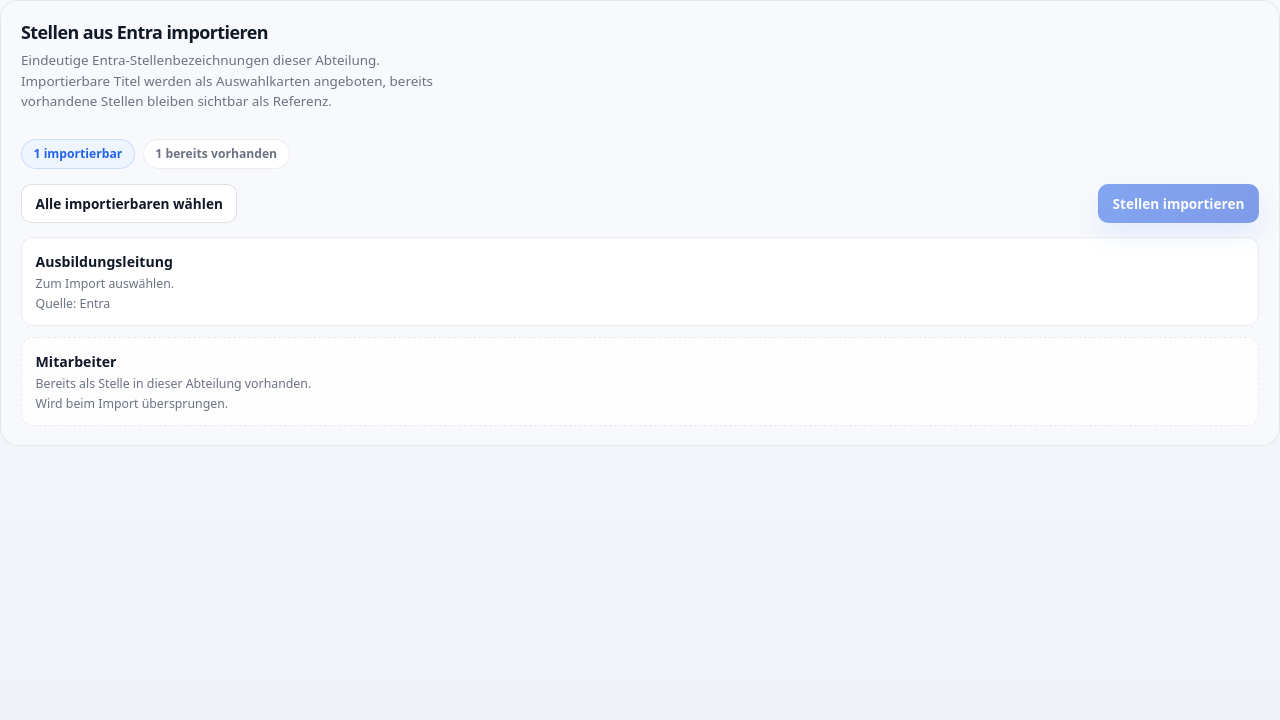
Test: AdminDepartmentEntraImportSection › refreshes organization data after a successful Entra position import
Click the button "Ausbildungsleitung Zum Import auswählen. Quelle: Entra".
click(104, 261)  # box [21, 237, 1259, 326]
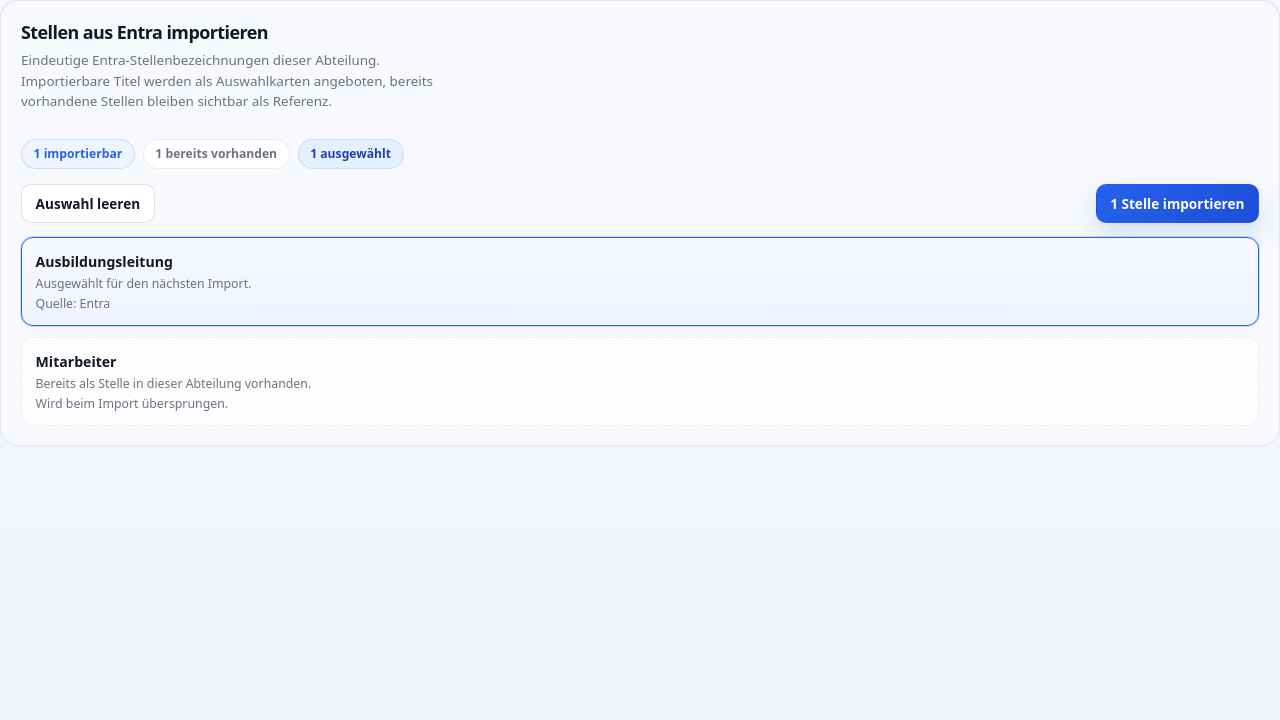
Click the button "1 Stelle importieren".
click(1177, 203)  # box [1096, 184, 1259, 223]
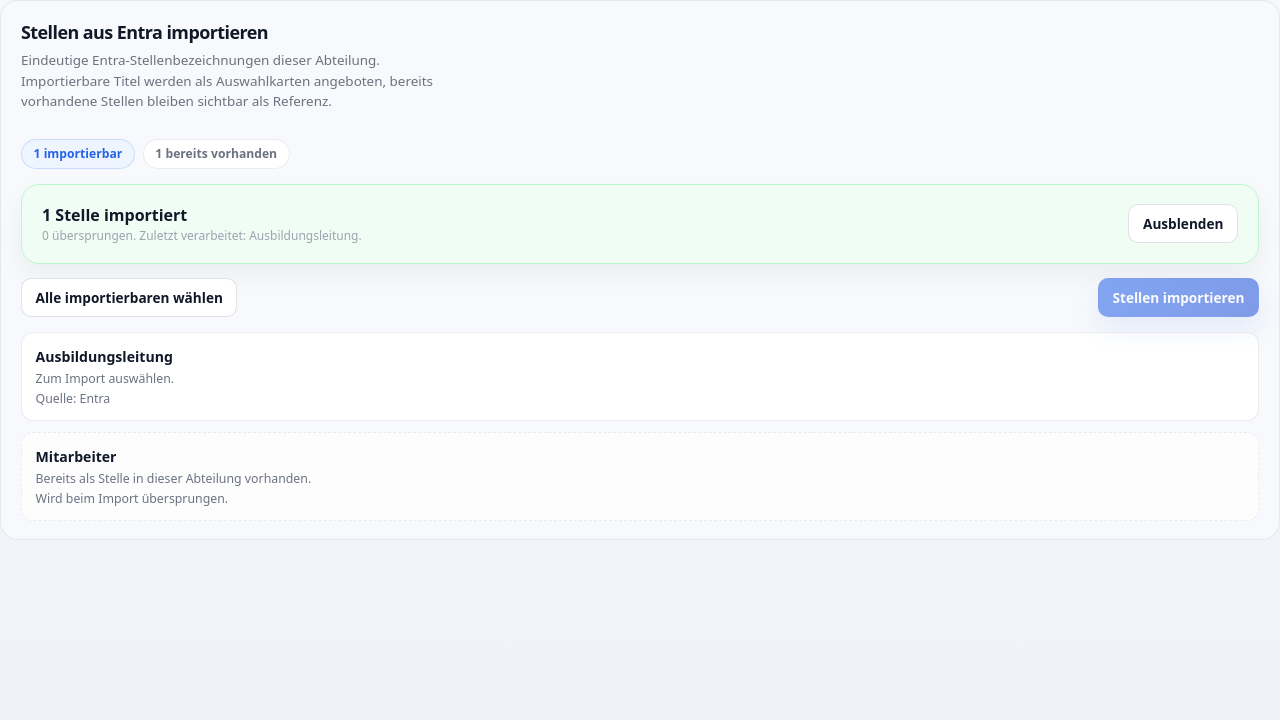
Expected: the text "1 Stelle importiert" is shown, [42, 204, 187, 226]
